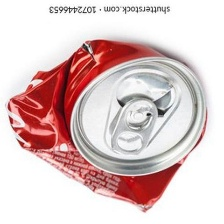can: (3, 36, 211, 215)
